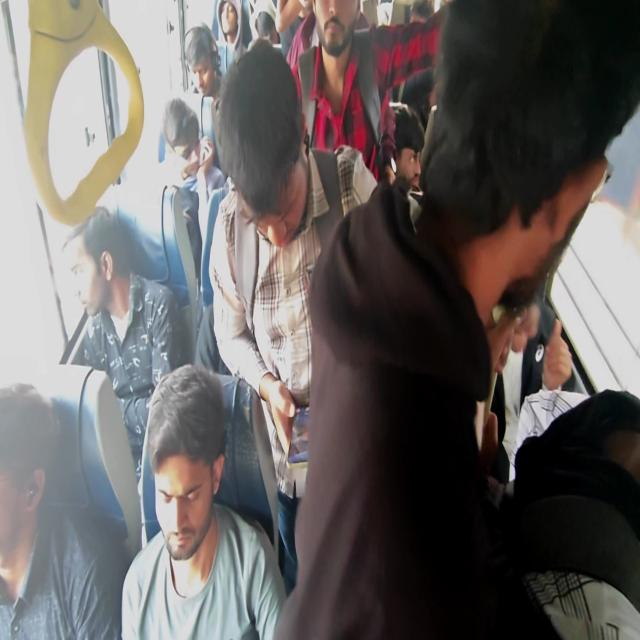person: (271, 0, 639, 638), (206, 37, 380, 591), (120, 362, 287, 638), (62, 205, 186, 548), (0, 381, 127, 639), (508, 388, 639, 638), (287, 0, 450, 186), (484, 282, 588, 487), (162, 97, 228, 307), (183, 22, 227, 170), (183, 22, 223, 103), (390, 101, 425, 190), (213, 0, 250, 72)
